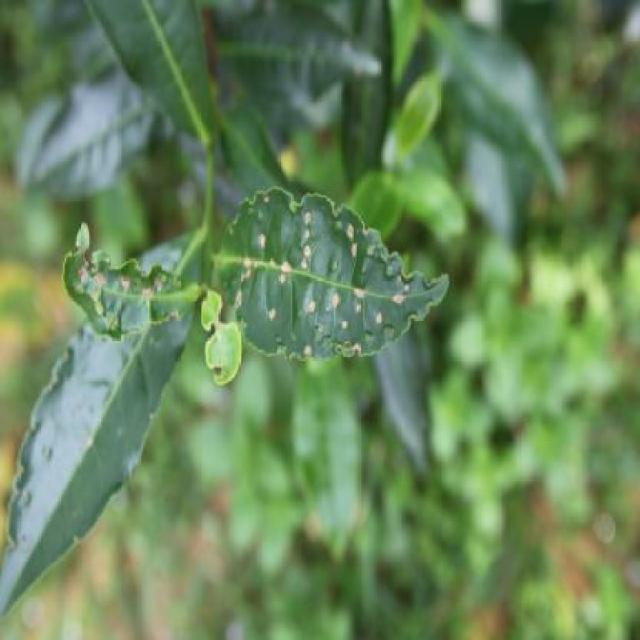Tea Mosquito bug infested leaf: (203, 180, 451, 363), (48, 228, 198, 352)
